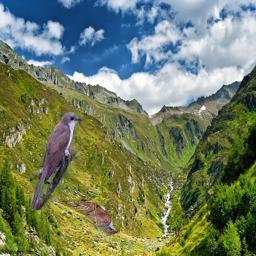Cuckoo: (30, 112, 81, 210), (61, 195, 120, 236)
